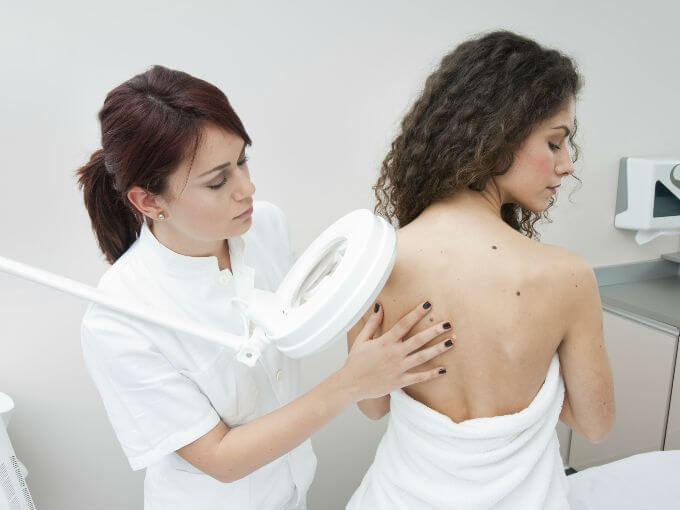mole: (487, 240, 503, 256), (512, 288, 526, 299)
